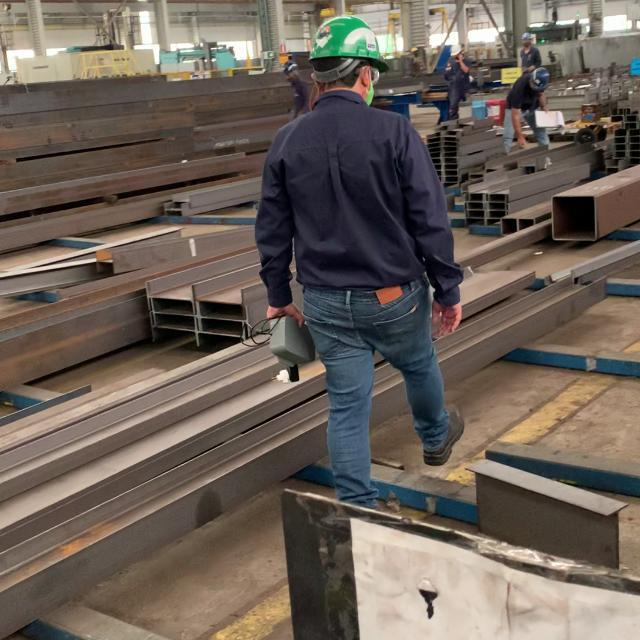glove: (305, 15, 403, 70)
helmet: (365, 81, 372, 100)
mask: (256, 19, 465, 515)
safety-shoe: (420, 404, 465, 465)
